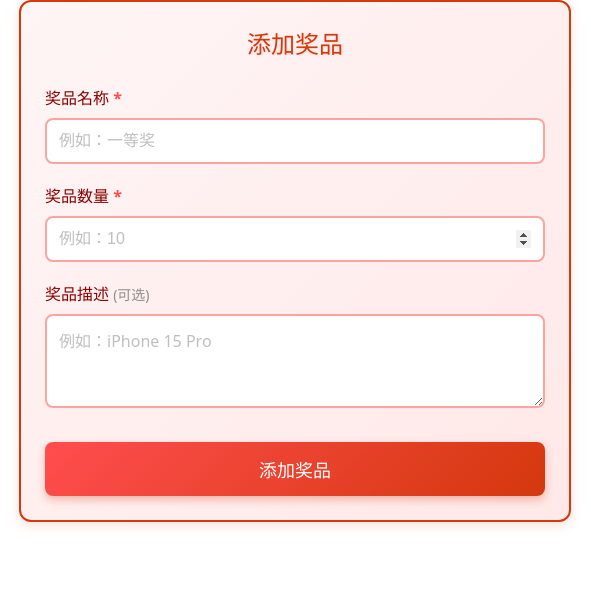
Test case: PrizeConfigForm › 边界情况 › 应该处理同时存在多个错误的情况
不填写任何内容直接提交
Click the button "添加奖品" at point(295, 469), box [45,442,545,496]
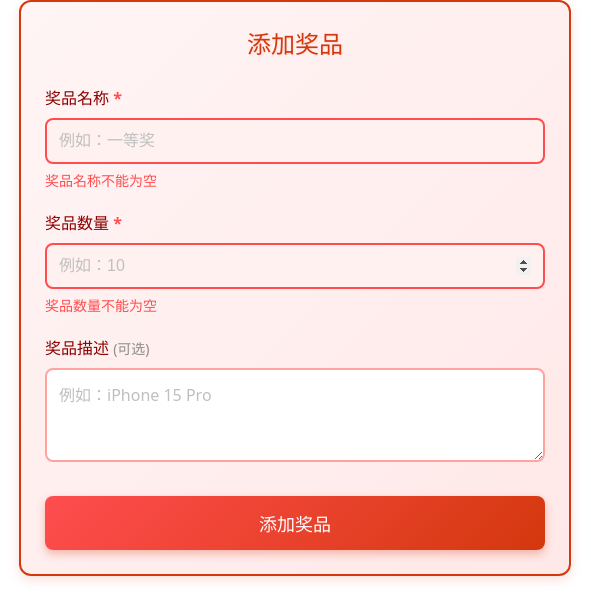
Result: the text "奖品名称不能为空" is shown at [45,171,157,190]
Result: the text "奖品数量不能为空" is shown at [45,296,157,315]
